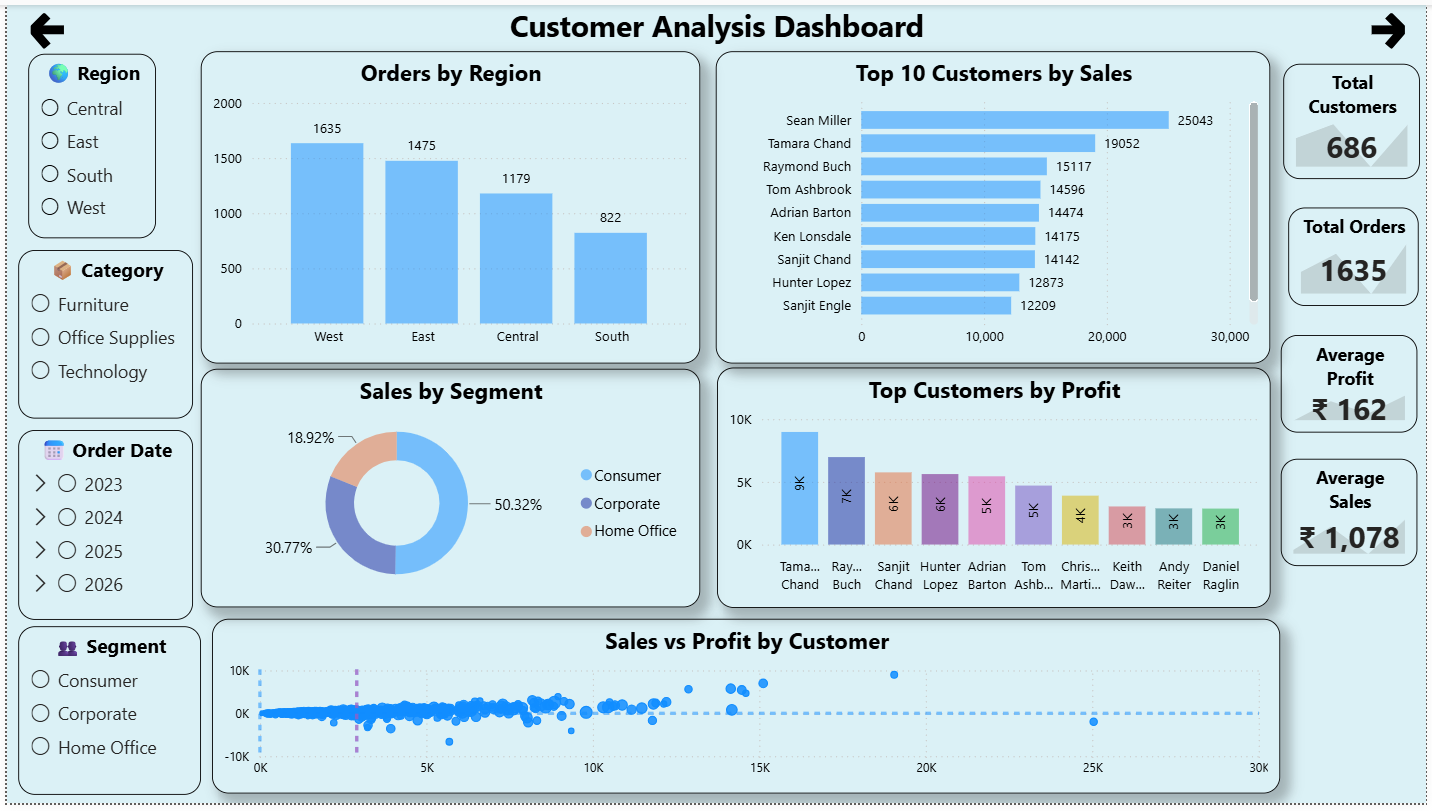

Layout of this report page (visuals, bound fields, positions):
{"tool":"powerbi","page":{"name":"Customer Analysis","canvas":[1280,720],"ordinal":1},"visuals":[{"type":"textbox","title":"Customer Analysis Dashboard","box":[0,0,1280.3,41.6],"z":0},{"type":"listSlicer","title":"🌍 Region","fields":{"Values":["Orders.Region"]},"box":[18.8,43.8,115,166.2],"z":1000},{"type":"listSlicer","title":"📦 Category","fields":{"Values":["Orders.Category"]},"box":[9.8,221.3,157.7,151.6],"z":2000},{"type":"listSlicer","title":"👥 Segment","fields":{"Values":["Orders.Segment"]},"box":[9.8,560.1,165.1,151.6],"z":3000},{"type":"listSlicer","title":"📅 Order Date","fields":{"Values":["Orders.Order Date.Variation.Date Hierarchy.Year","Orders.Order Date.Variation.Date Hierarchy.Month","Orders.Order Date.Variation.Date Hierarchy.Day"]},"box":[9.8,382.7,157.7,171.2],"z":4000},{"type":"clusteredBarChart","title":"Top 10 Customers by Sales","fields":{"Y":["Executive sales Dashboard.Total Sales"],"Category":["Orders.Customer Name"]},"box":[639.5,41.6,500.1,281.3],"z":5000},{"type":"donutChart","title":"Sales by Segment","fields":{"Y":["Executive sales Dashboard.Total Sales"],"Category":["Orders.Segment"]},"box":[174.9,327.7,450,215.2],"z":6000},{"type":"clusteredColumnChart","title":"Orders by Region","fields":{"Category":["Orders.Region"],"Y":["Customer Analysis Dashboard.Totall Orders"]},"box":[174.9,41.6,450,281.3],"z":7000},{"type":"columnChart","title":"Top Customers by Profit","fields":{"Series":["Orders.Customer Name"],"Category":["Orders.Customer Name"],"Y":["Executive sales Dashboard.Total Profit"]},"box":[640.8,326.5,498.9,216.4],"z":8000},{"type":"scatterChart","title":"Sales vs Profit by Customer","fields":{"X":["Executive sales Dashboard.Total Sales"],"Y":["Executive sales Dashboard.Total Profit"],"Size":["Executive sales Dashboard.Total Quantity"],"Category":["Orders.Customer Name"]},"box":[184.6,553.9,963.6,157.7],"z":9000},{"type":"kpi","title":"Total Customers","fields":{"TrendLine":["Orders.Region"],"Indicator":["Customer Analysis Dashboard.Total Customers"]},"box":[1150.7,52.6,123.5,103.9],"z":10000},{"type":"kpi","title":"Total Orders","fields":{"TrendLine":["Orders.Region"],"Indicator":["Customer Analysis Dashboard.Totall Orders"]},"box":[1155,182.5,117.5,88.8],"z":11000},{"type":"kpi","title":"Average Profit","fields":{"TrendLine":["Orders.Region"],"Indicator":["Customer Analysis Dashboard.Average Profit per Customer"]},"box":[1148.2,297.1,123.5,88],"z":12000},{"type":"kpi","title":"Average Sales","fields":{"TrendLine":["Orders.Region"],"Indicator":["Customer Analysis Dashboard.Average Sales per Customer"]},"box":[1148.2,409.6,123.5,96.6],"z":13000},{"type":"actionButton","box":[1217.5,3.8,53.8,40],"z":14000},{"type":"actionButton","box":[10,3.8,53.8,40],"z":15000}]}

Visuals, with their boxes in screenshot pixels (x1, y1, x2, y2), scaled from the page's 1280x720 canvas onto the 1432x811 screenshot:
"Customer Analysis Dashboard" textbox: {"x1": 0, "y1": 0, "x2": 1431, "y2": 47}
"🌍 Region" listSlicer: {"x1": 21, "y1": 49, "x2": 150, "y2": 237}
"📦 Category" listSlicer: {"x1": 11, "y1": 249, "x2": 187, "y2": 420}
"👥 Segment" listSlicer: {"x1": 11, "y1": 631, "x2": 196, "y2": 802}
"📅 Order Date" listSlicer: {"x1": 11, "y1": 431, "x2": 187, "y2": 624}
"Top 10 Customers by Sales" clusteredBarChart: {"x1": 715, "y1": 47, "x2": 1275, "y2": 364}
"Sales by Segment" donutChart: {"x1": 196, "y1": 369, "x2": 699, "y2": 612}
"Orders by Region" clusteredColumnChart: {"x1": 196, "y1": 47, "x2": 699, "y2": 364}
"Top Customers by Profit" columnChart: {"x1": 717, "y1": 368, "x2": 1275, "y2": 612}
"Sales vs Profit by Customer" scatterChart: {"x1": 207, "y1": 624, "x2": 1285, "y2": 802}
"Total Customers" kpi: {"x1": 1287, "y1": 59, "x2": 1426, "y2": 176}
"Total Orders" kpi: {"x1": 1292, "y1": 206, "x2": 1424, "y2": 306}
"Average Profit" kpi: {"x1": 1285, "y1": 335, "x2": 1423, "y2": 434}
"Average Sales" kpi: {"x1": 1285, "y1": 461, "x2": 1423, "y2": 570}
actionButton: {"x1": 1362, "y1": 4, "x2": 1422, "y2": 49}
actionButton: {"x1": 11, "y1": 4, "x2": 71, "y2": 49}
